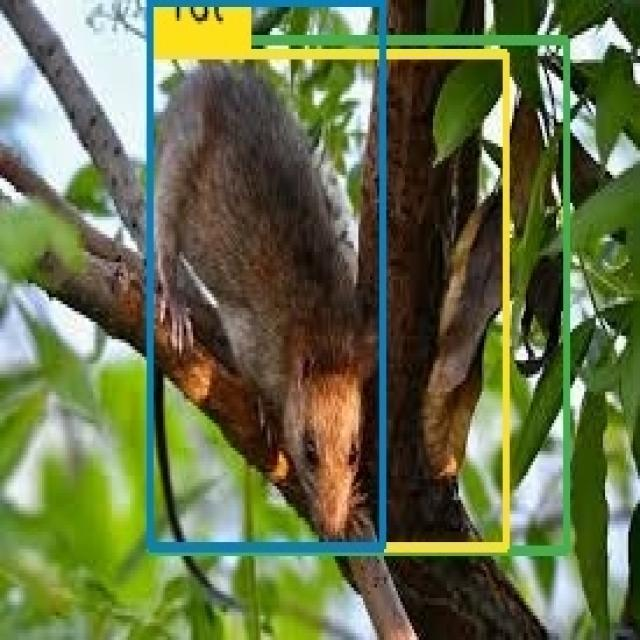rat: (149, 42, 568, 549), (150, 53, 506, 549), (150, 2, 383, 547), (150, 56, 383, 546)
